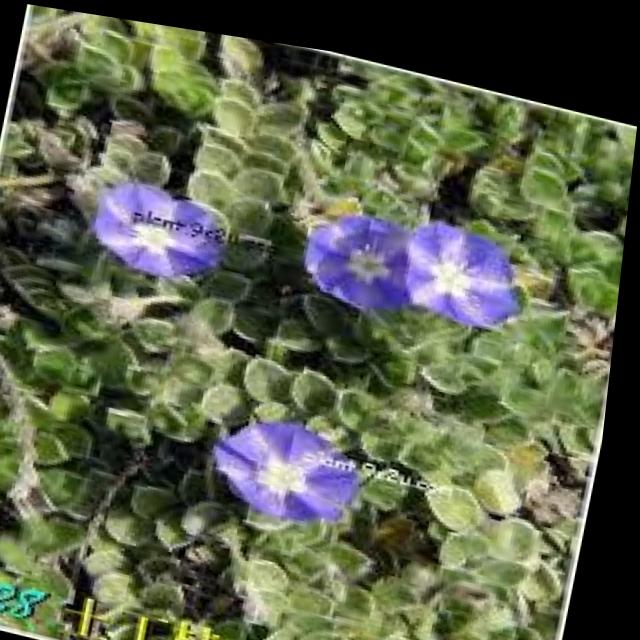Flower: (215, 386, 378, 532), (276, 180, 437, 305), (395, 203, 548, 331), (94, 161, 239, 284)
